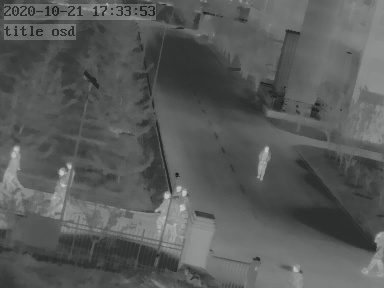person: (2, 142, 24, 194), (48, 167, 68, 212), (366, 229, 384, 275), (158, 188, 175, 233), (255, 145, 270, 179)
